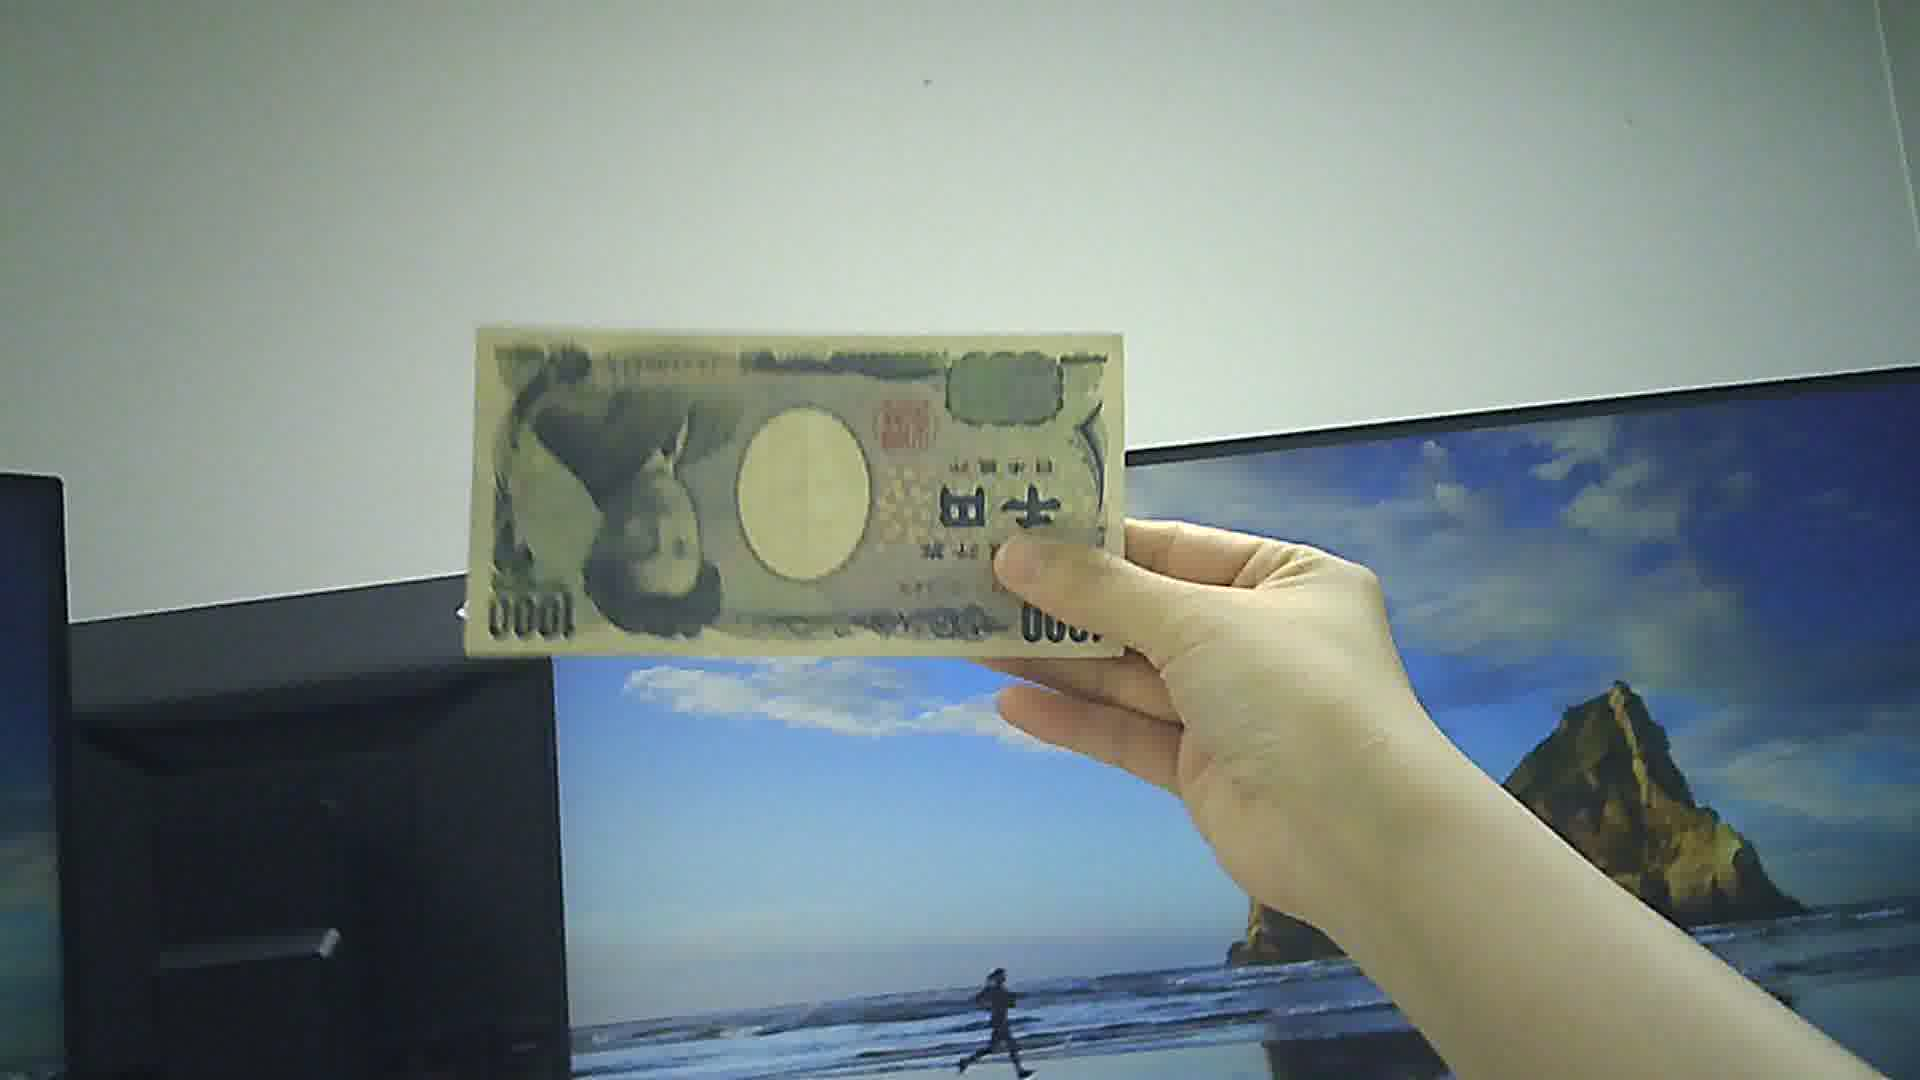1,000 Yen: (450, 306, 1141, 667)
